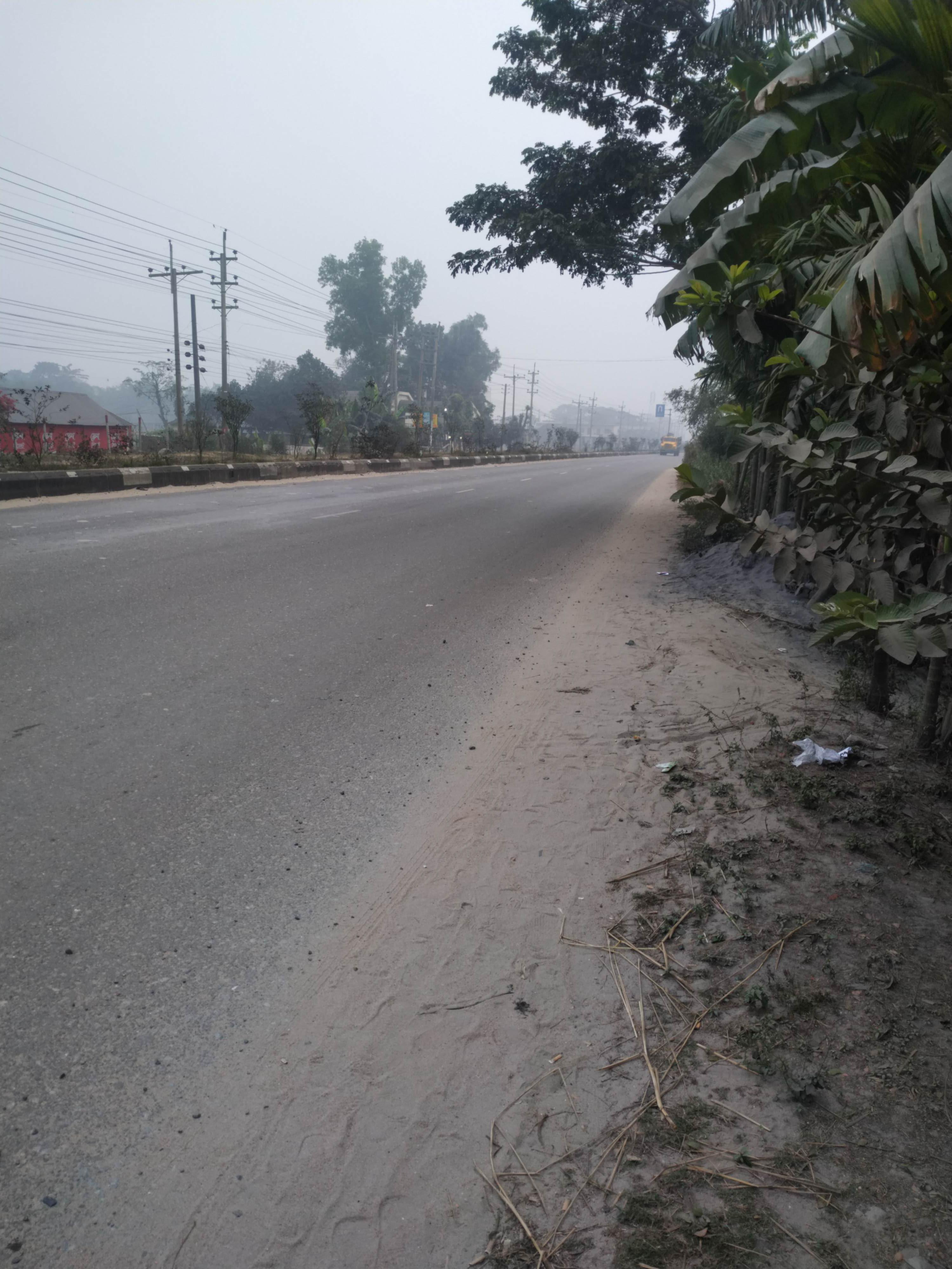Truck: (649, 430, 693, 470)
